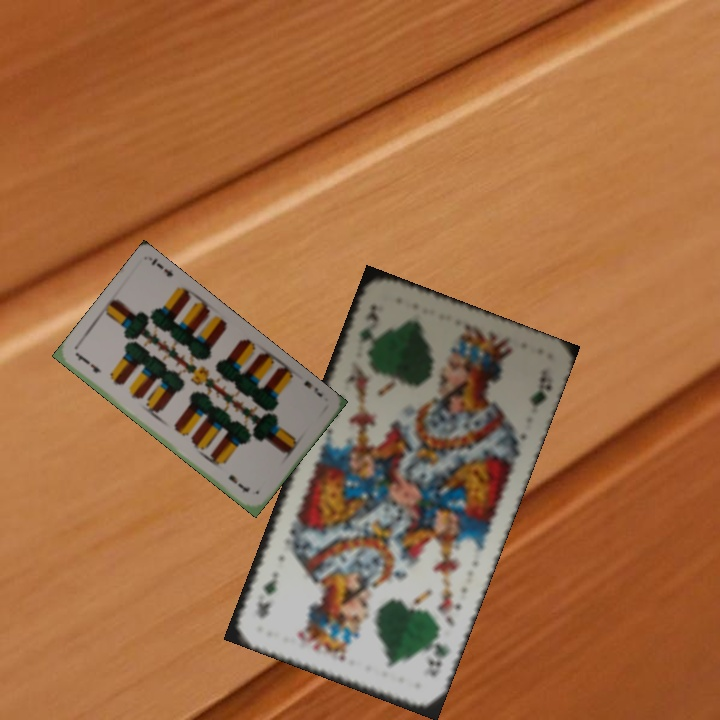E7: (72, 349, 104, 376), (300, 377, 325, 400)
GK: (420, 629, 453, 679), (355, 300, 385, 355)
